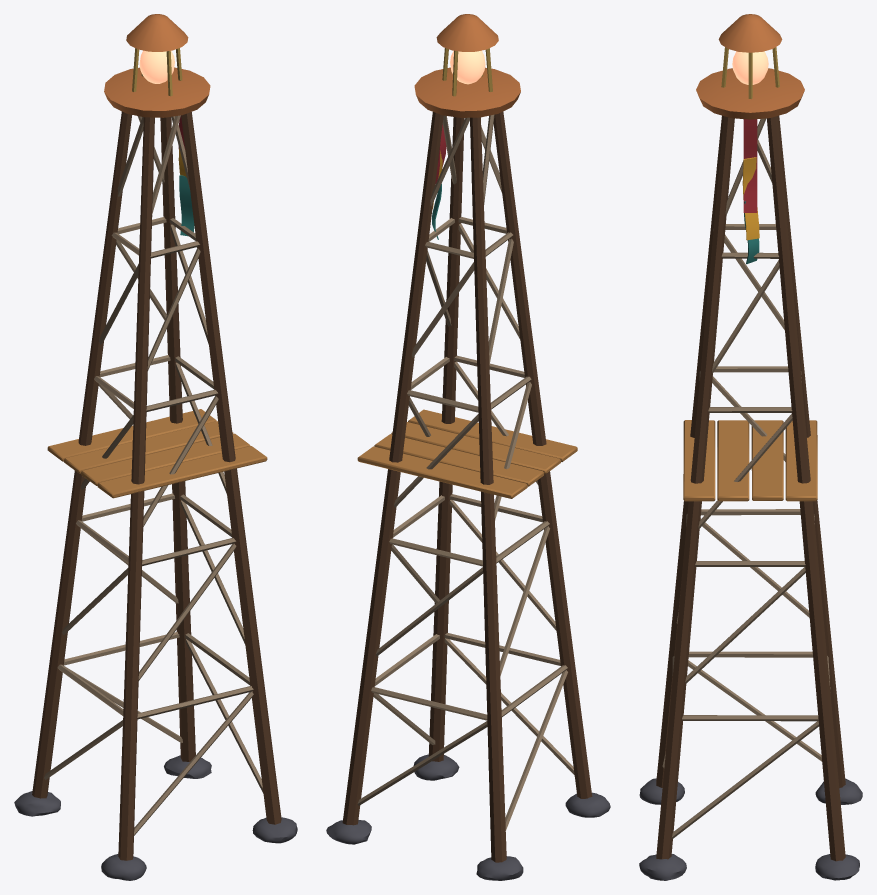
File: deco_beacon_tower.fbx
3 views of the same model, side by side, from view 1: azimuth 30°, elevation 25°; view 2: azimuth 150°, elevation 25°; view 3: azimuth 270°, elevation 25° (orthographic).
Visible parts, largest first — view 1: BeaconTower_Lattice, BeaconTower_Platform, BeaconTower_Lantern, BeaconTower_Light, BeaconTower_Pennants; view 2: BeaconTower_Lattice, BeaconTower_Platform, BeaconTower_Lantern, BeaconTower_Light; view 3: BeaconTower_Lattice, BeaconTower_Platform, BeaconTower_Lantern, BeaconTower_Pennants, BeaconTower_Light.
Part boxes in pixels (x1,y1,x2,y2): BeaconTower_Lattice: [14, 111, 297, 880]; BeaconTower_Platform: [47, 409, 267, 498]; BeaconTower_Lantern: [104, 14, 210, 117]; BeaconTower_Light: [139, 50, 174, 83]; BeaconTower_Pennants: [178, 116, 194, 236]; BeaconTower_Lattice: [326, 111, 610, 880]; BeaconTower_Platform: [357, 409, 577, 498]; BeaconTower_Lantern: [414, 14, 520, 117]; BeaconTower_Light: [450, 50, 485, 84]; BeaconTower_Lattice: [639, 115, 862, 880]; BeaconTower_Platform: [683, 420, 817, 501]; BeaconTower_Lantern: [696, 14, 804, 119]; BeaconTower_Pennants: [742, 119, 759, 264]; BeaconTower_Light: [732, 51, 768, 84].
Bounding box in the file's own units: 198 × 797 × 197.
